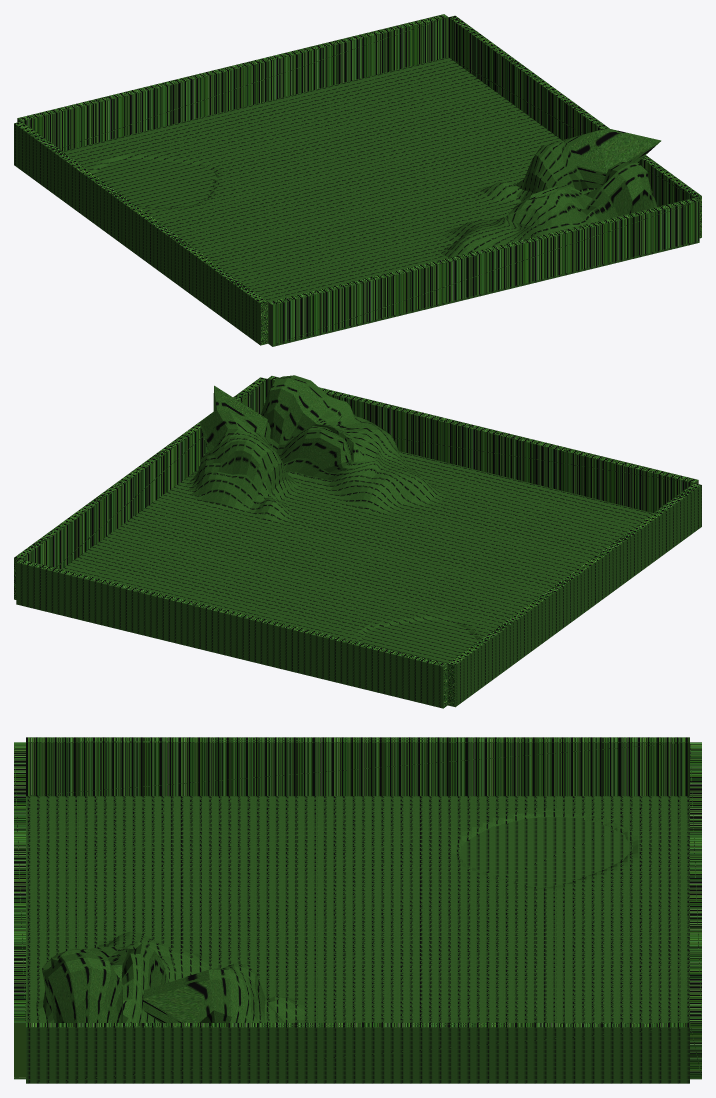
The model's file is CurrentWorld.gltf.
The picture shows the model from 3 angles, top to bottom: view 1: azimuth 30°, elevation 25°; view 2: azimuth 150°, elevation 25°; view 3: azimuth 270°, elevation 25°; orthographic projection. The views are drawn at different scales.
Visible parts, largest first — view 1: Cube; view 2: Cube; view 3: Cube.
Boxes of the visible parts, bbox=[...] form: Cube: bbox=[14, 14, 701, 346]; Cube: bbox=[14, 375, 701, 708]; Cube: bbox=[14, 737, 701, 1083].
Size of the model in its own units: 523 by 92.55 by 520.
Materials: 1 (1 with a texture image).
